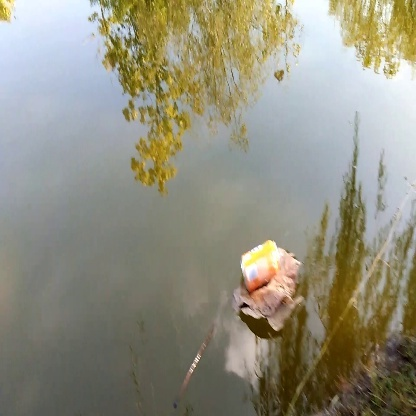bottle: (235, 234, 284, 290)
